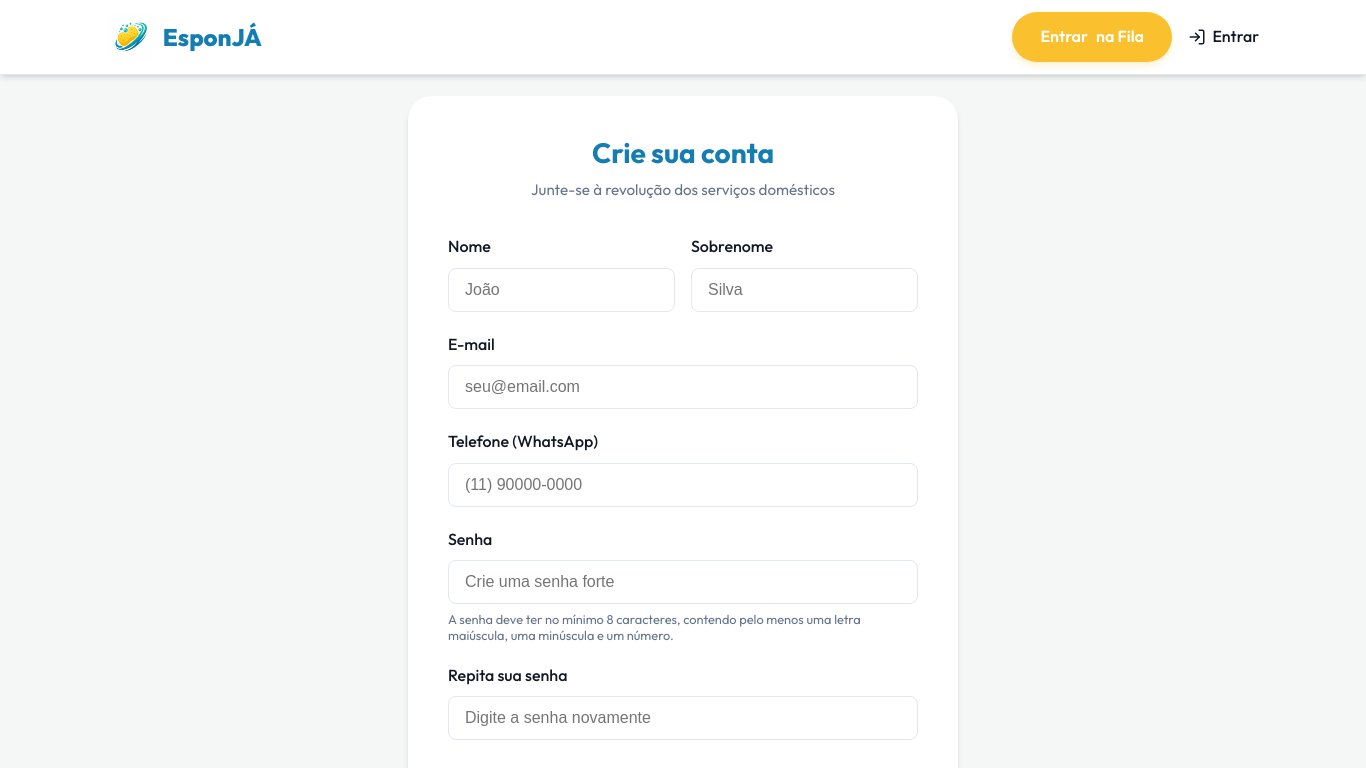
Scenario: Register Component › 3. deve bloquear o envio e exibir erro se as senhas não coincidirem
This screenshot has width=1366, height=768.
Type "Bruce" into the field with placeholder "João" at (562, 290), box [448, 268, 675, 312]
Type "Wayne" into the field with placeholder "Silva" at (804, 290), box [691, 268, 918, 312]
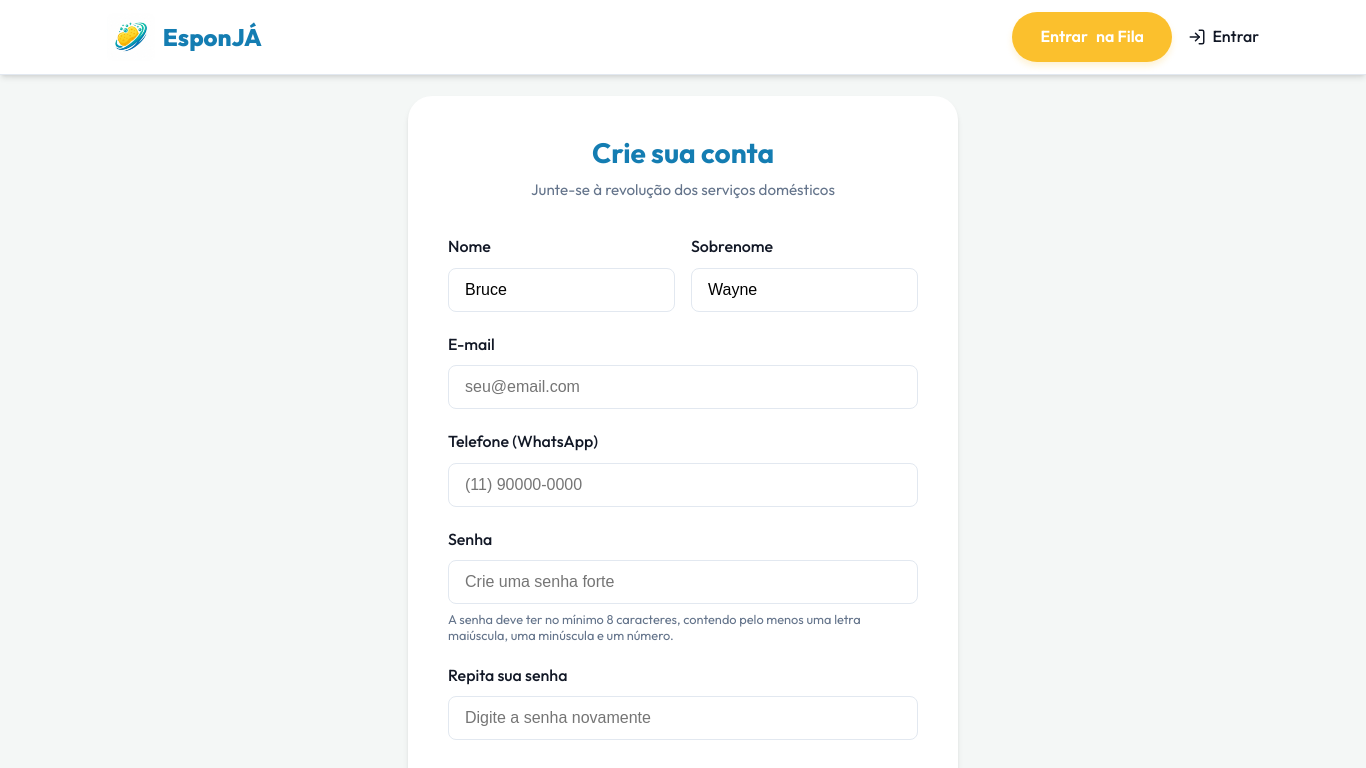
Type "bruce@usp.br" into the field with placeholder "seu@email.com" at (683, 387), box [448, 365, 918, 409]
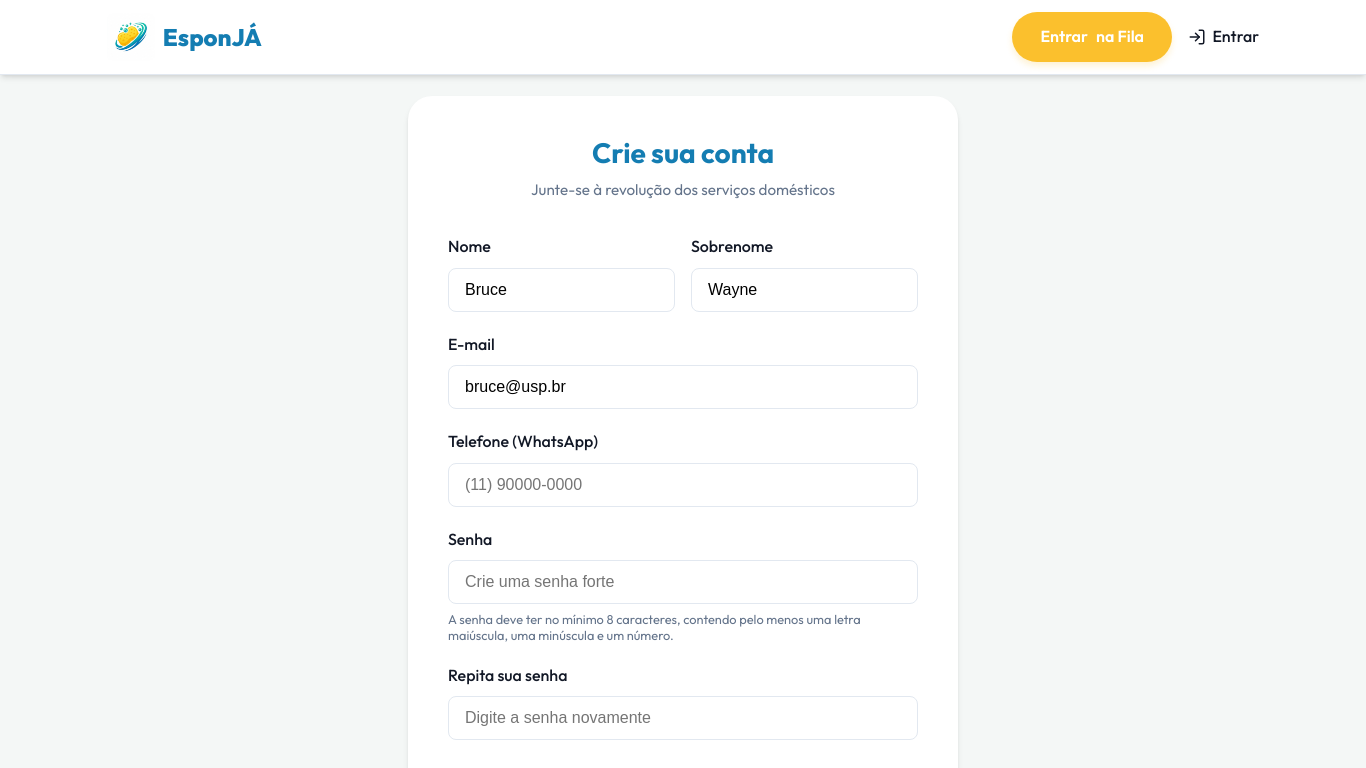
Type "11999999999" into the field with placeholder "(11) 90000-0000" at (683, 485), box [448, 463, 918, 507]
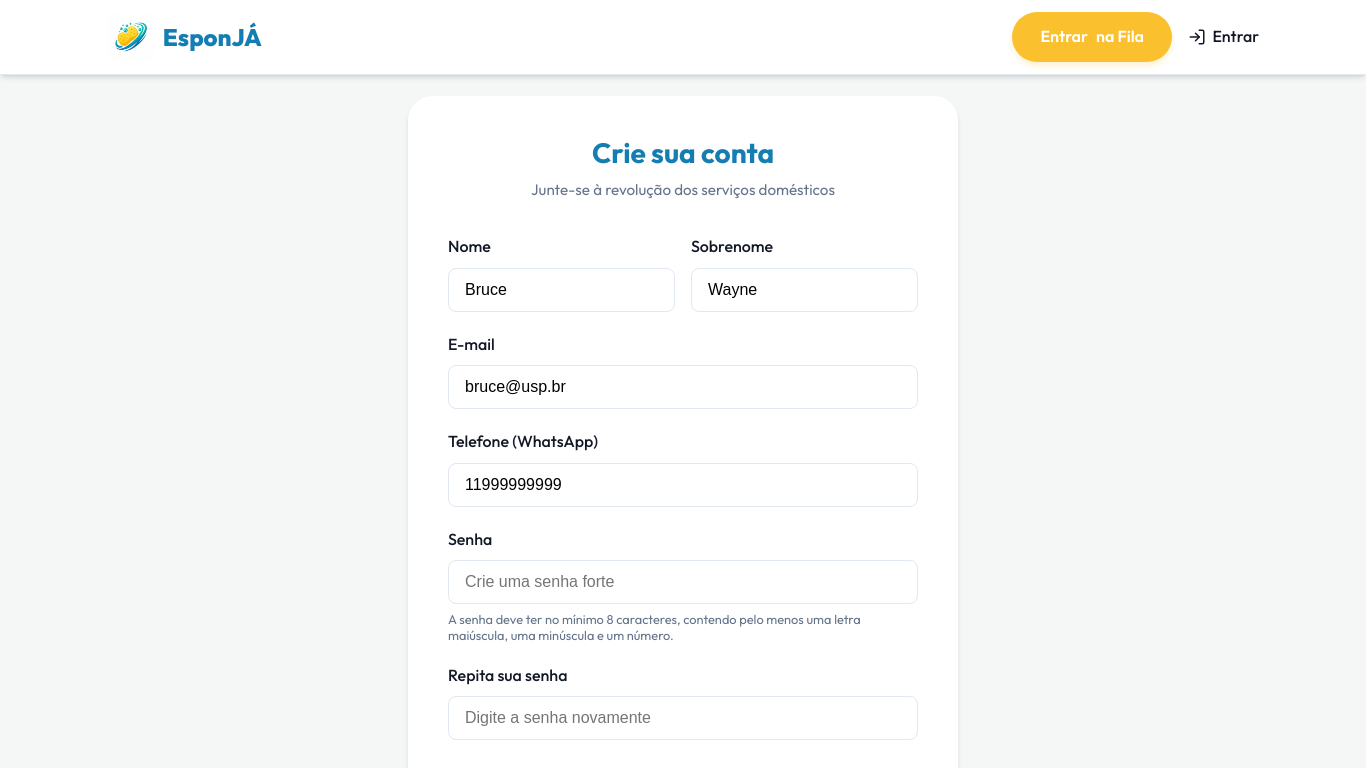
Type "SenhaSegura123" into the password field with placeholder "Crie uma senha forte" at (683, 582), box [448, 560, 918, 604]
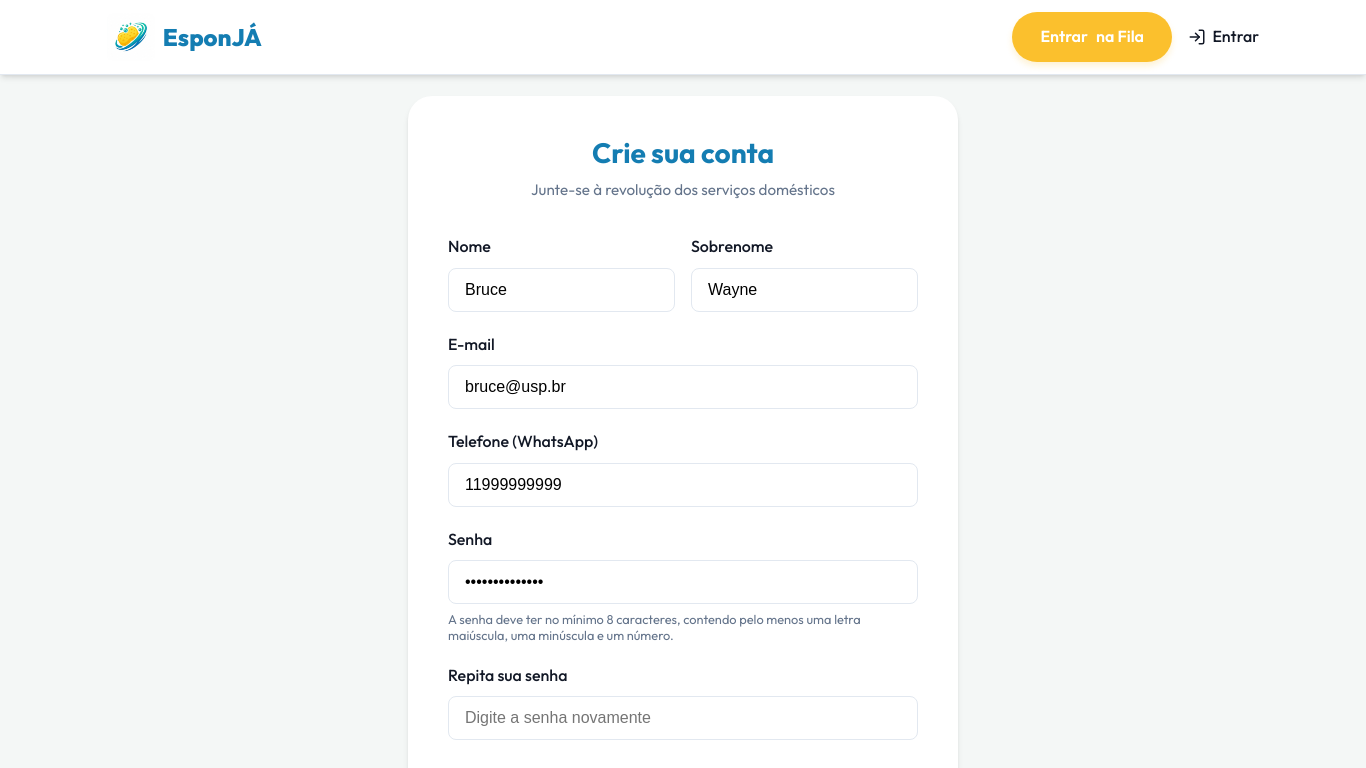
Type "SenhaDiferente123" into the password field with placeholder "Digite a senha novamente" at (683, 718), box [448, 696, 918, 740]
(page scrolled)
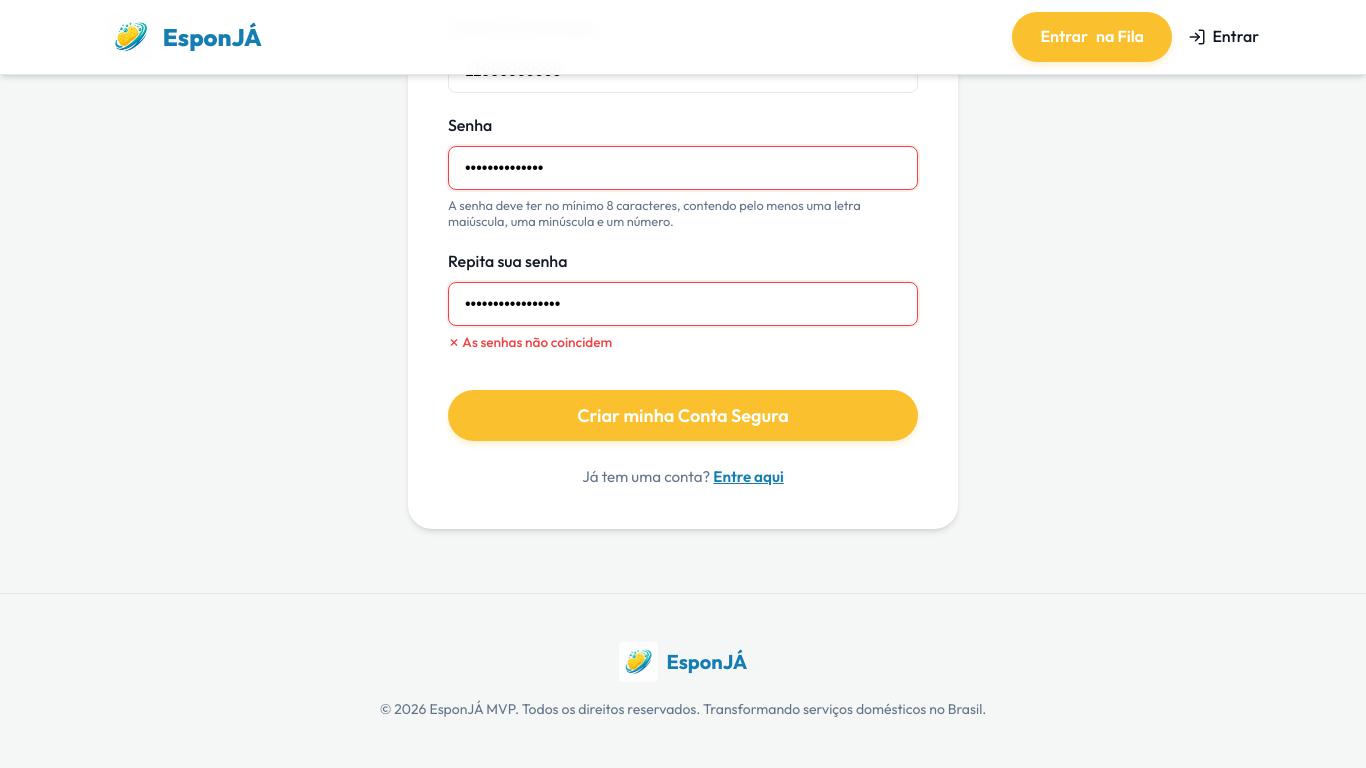
Click the button "Criar minha Conta Segura" at (683, 415), box [448, 390, 918, 441]
(page scrolled)
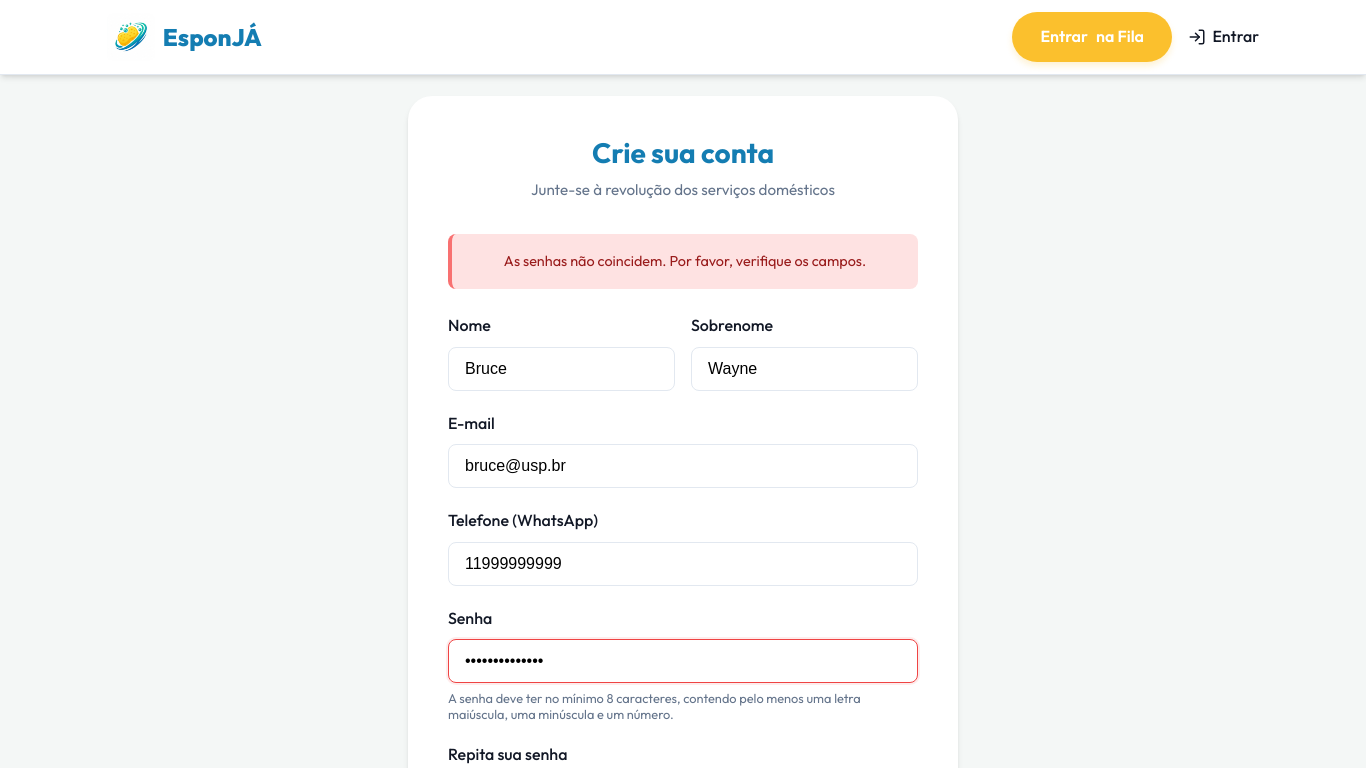
Expected: the text "As senhas não coincidem. Por favor, verifique os campos." is shown, [448, 234, 918, 289]
